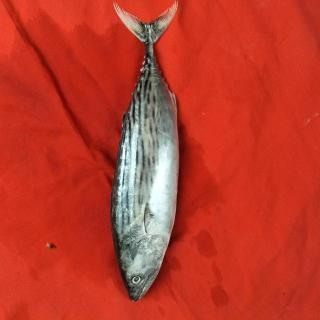Ikan: (106, 2, 188, 306)
